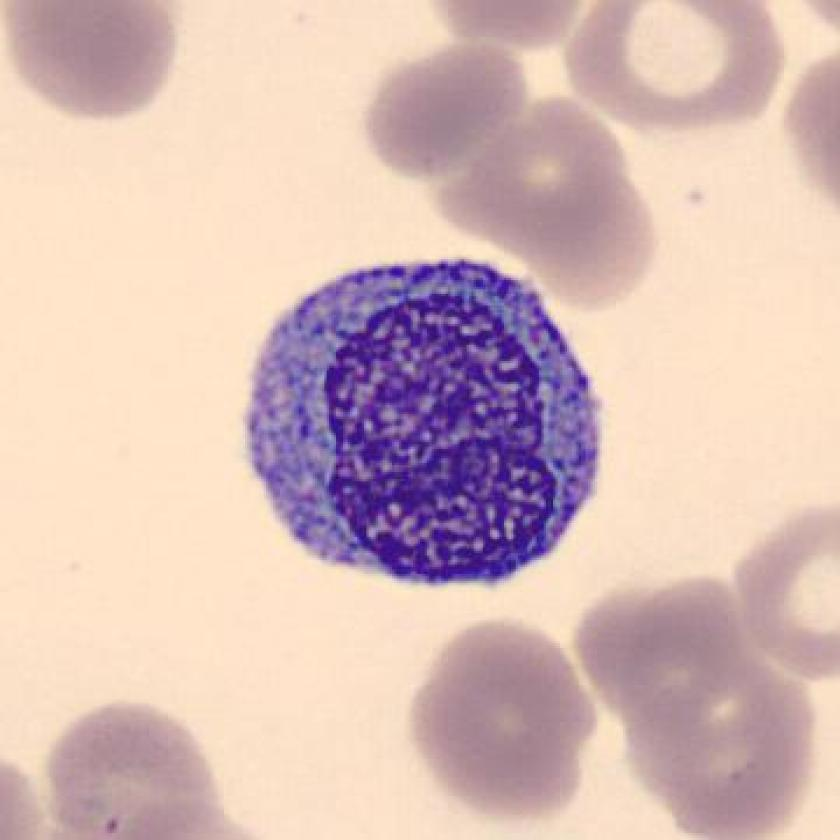monocyte: (218, 235, 622, 607)
